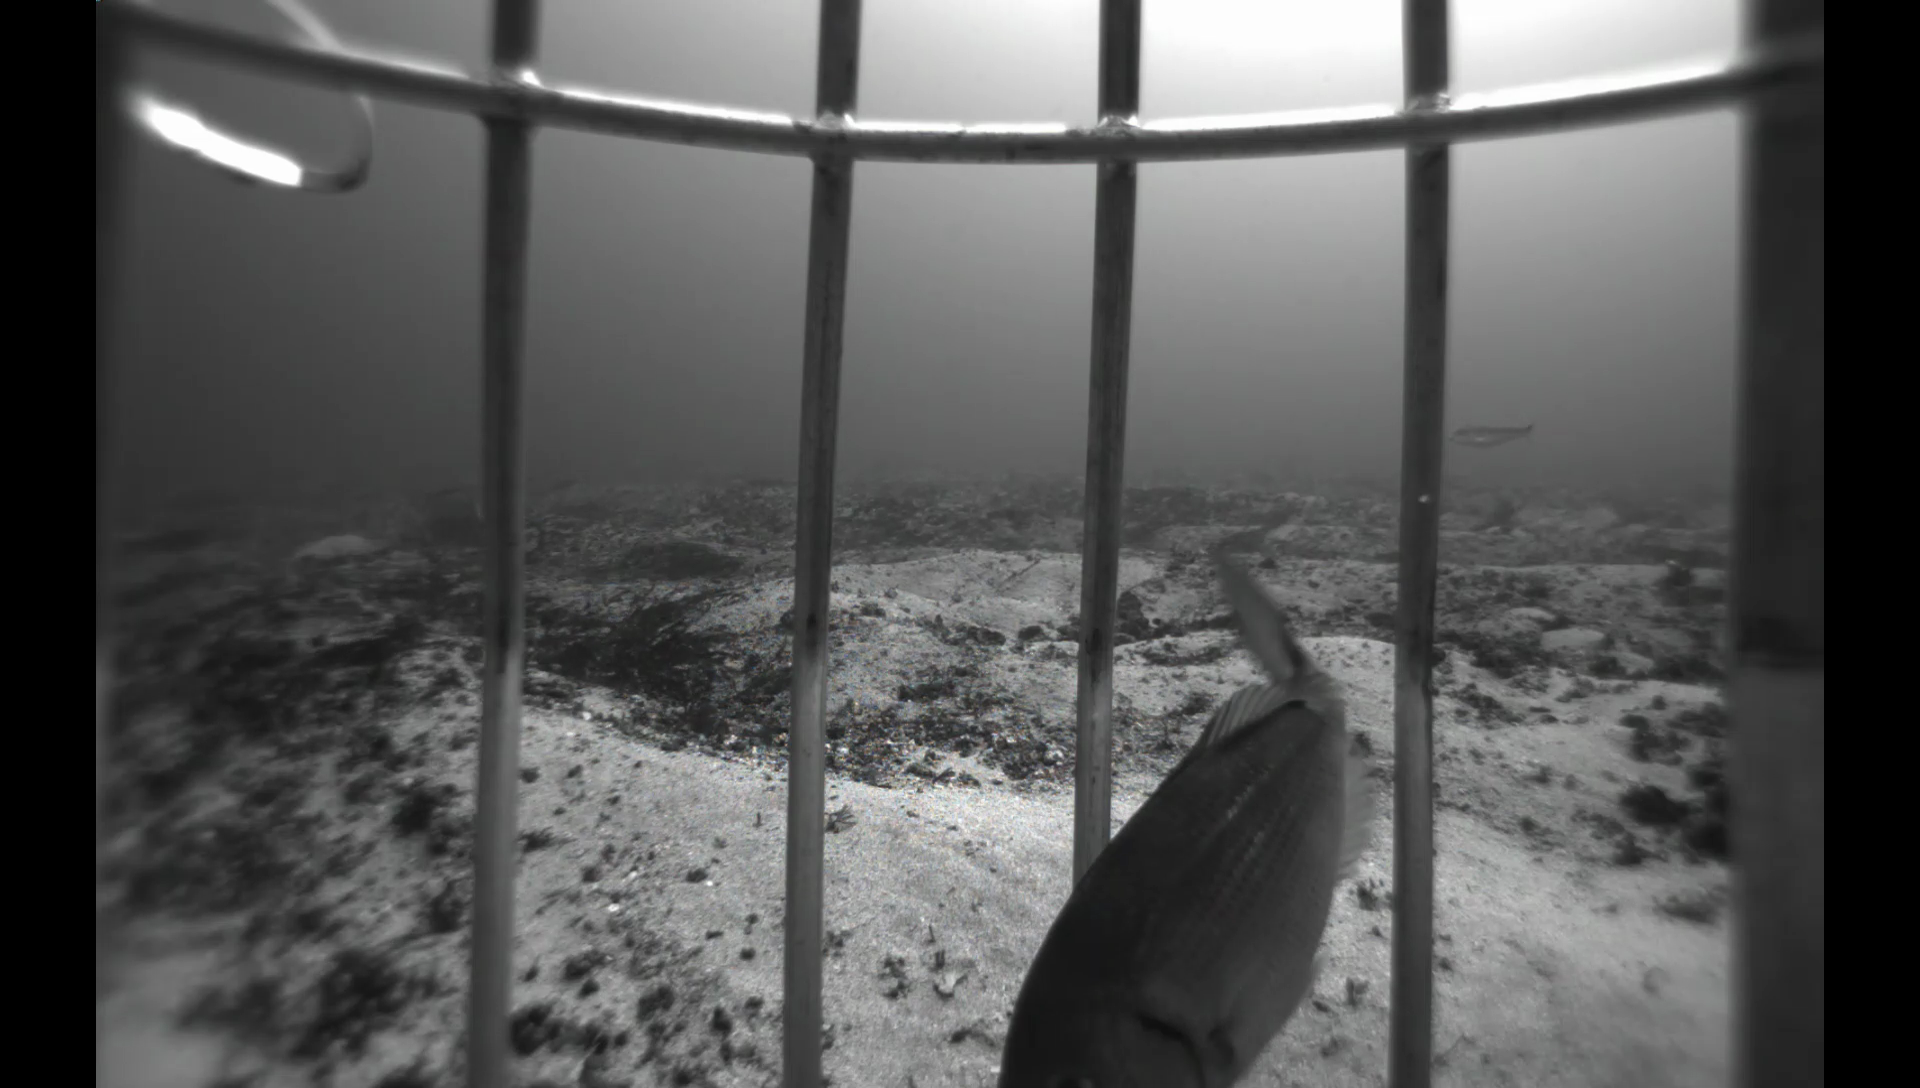MALACANTHUSPLUMIERI-170070301: (1447, 415, 1538, 451)
PAGRUSPAGRUS-170212302: (988, 528, 1389, 1088)
POMACANTHUSARCUATUS-170290201: (396, 484, 484, 555)
